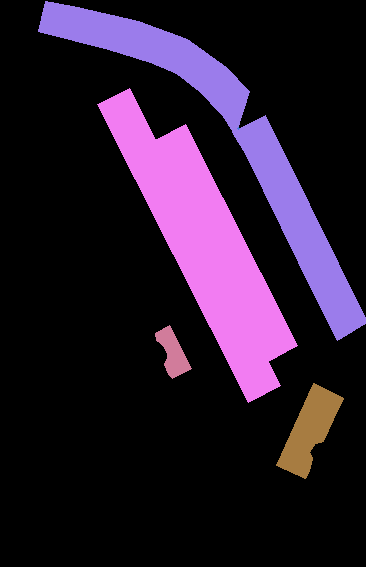parkingspot: (97, 88, 280, 402), (153, 124, 297, 362), (232, 115, 366, 340), (38, 1, 249, 135), (276, 383, 343, 478), (155, 325, 191, 378)
